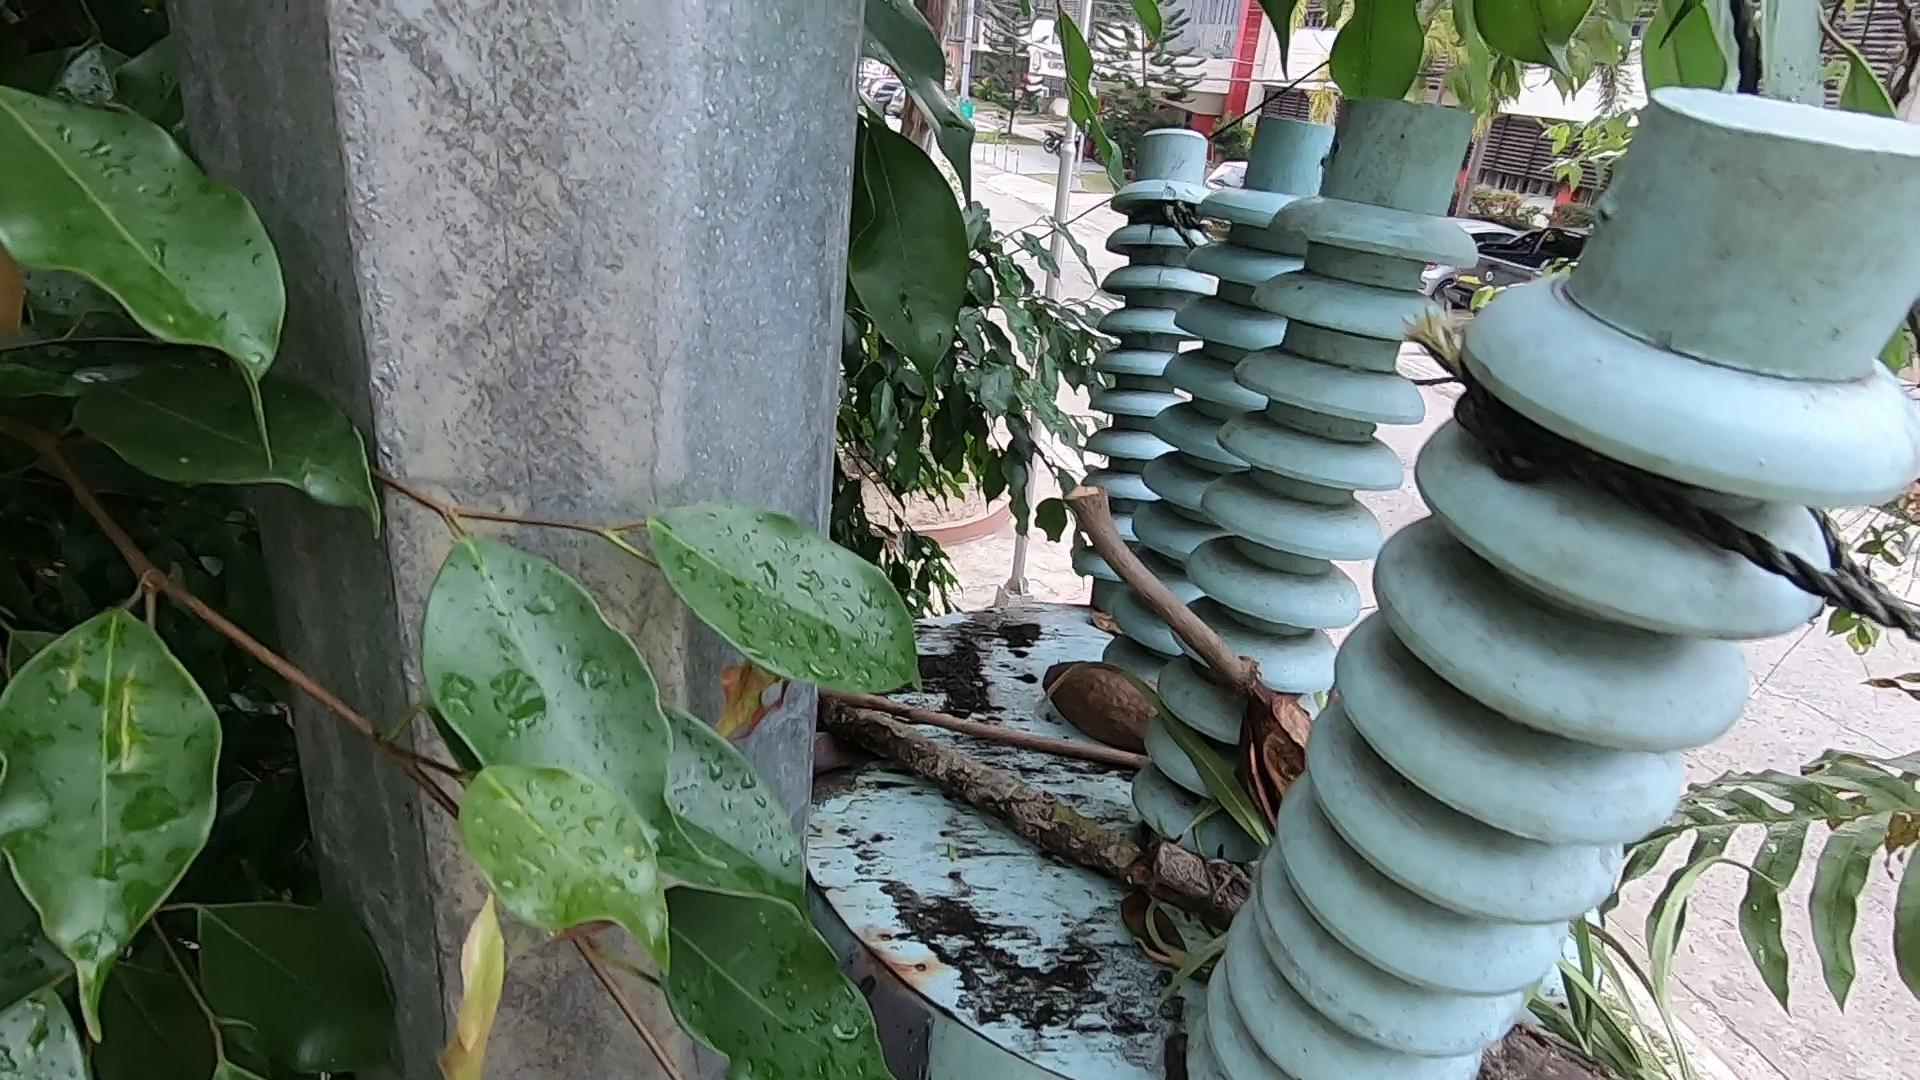branch with leaves: (825, 702, 1573, 1080)
leaf: (1172, 724, 1658, 1080), (1131, 894, 1199, 980)
mahogany fruit: (1026, 605, 1172, 744), (1254, 661, 1383, 794)
tree branch: (1083, 491, 1283, 713), (825, 696, 1156, 771)
